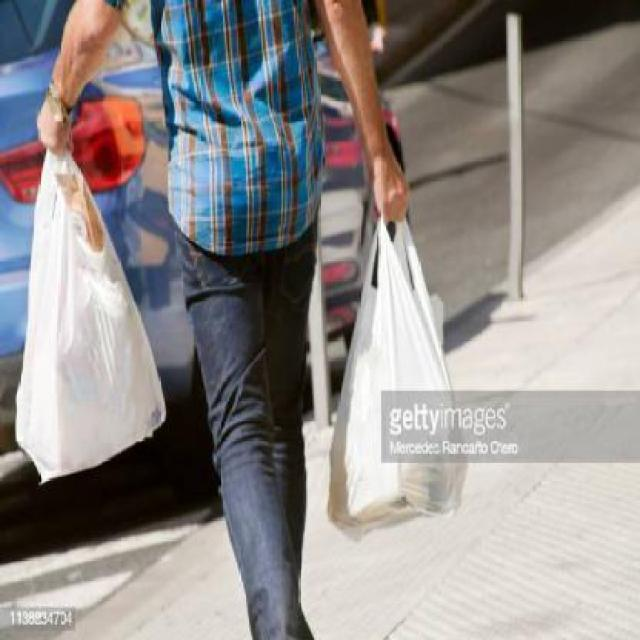plastic bag: (318, 188, 478, 544), (17, 136, 173, 486)
